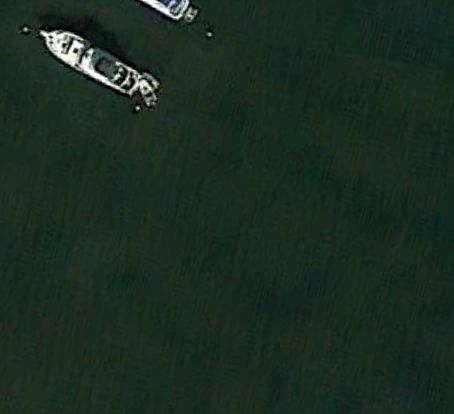boat: (38, 30, 147, 99)
